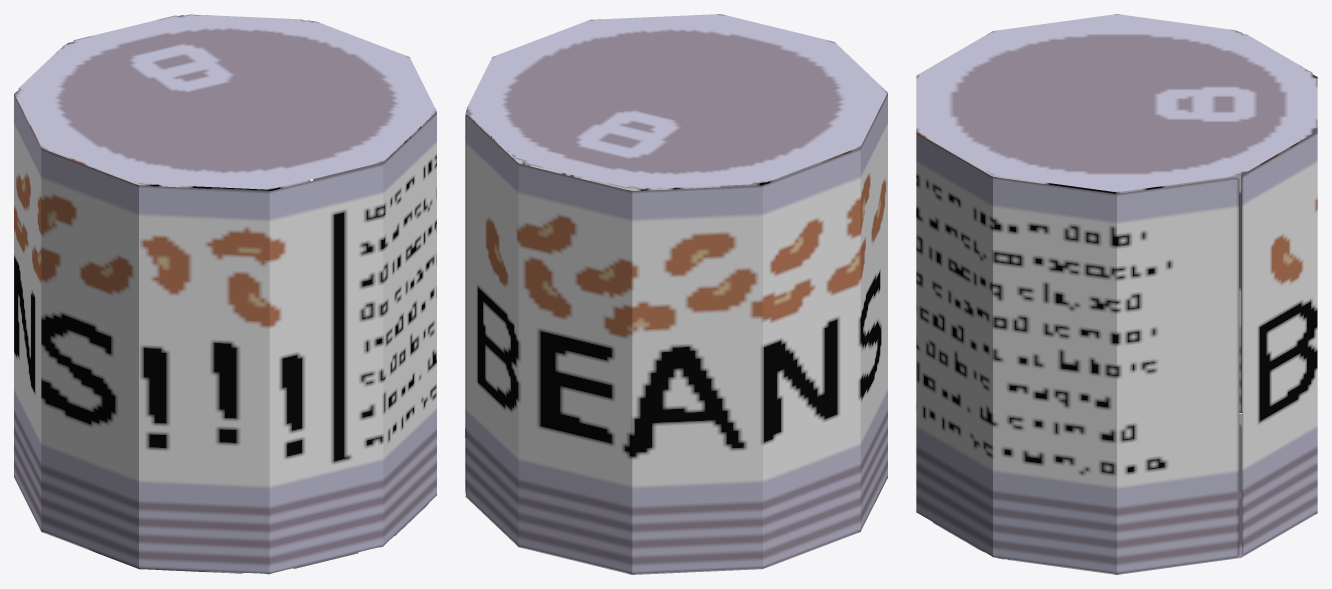
The model's file is foodcan.fbx.
3 renders of one model, left to right at view 1: azimuth 30°, elevation 25°; view 2: azimuth 150°, elevation 25°; view 3: azimuth 270°, elevation 25°, orthographic.
Parts seen in each view (by area): view 1: pCylinder1; view 2: pCylinder1; view 3: pCylinder1.
Boxes of the visible parts, x1,y1,x2,y2 form: pCylinder1: (14, 14, 436, 574); pCylinder1: (465, 14, 887, 574); pCylinder1: (916, 14, 1317, 574).
Bounding box in the file's own units: 2 × 2 × 1.9.
Materials: 1 (1 with a texture image).
